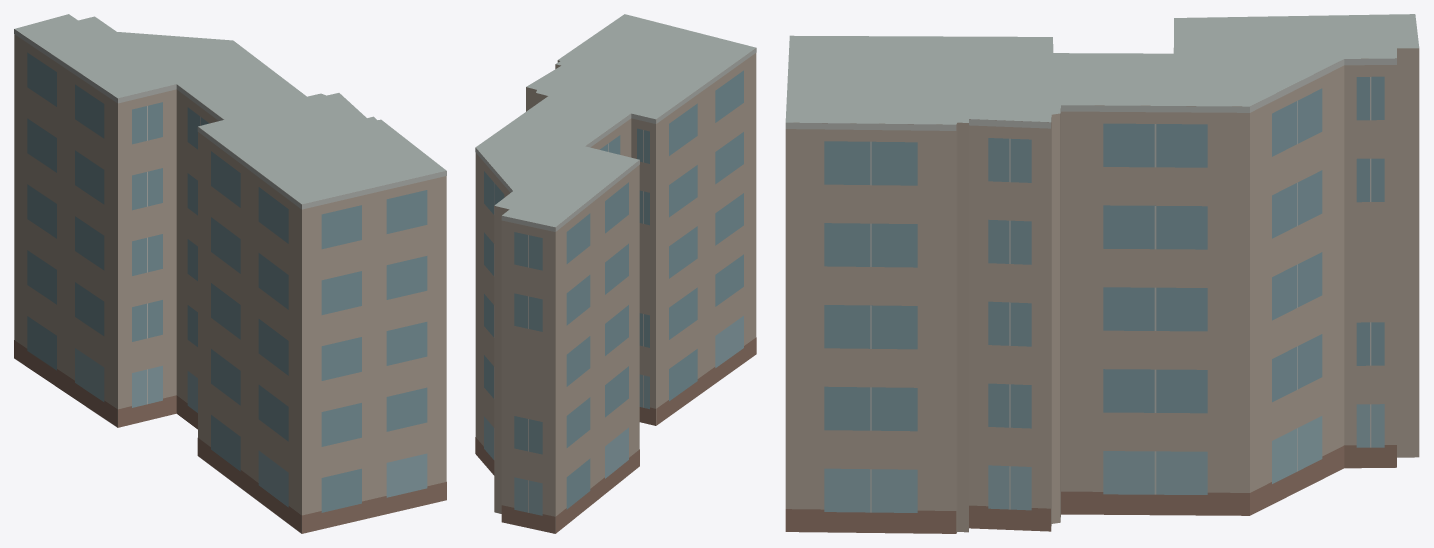
Rendered from survey-upis-32499410.glb.
3 views of the same model, side by side, from view 1: azimuth 30°, elevation 25°; view 2: azimuth 150°, elevation 25°; view 3: azimuth 270°, elevation 25° (orthographic). The views are drawn at different scales.
Visible parts, largest first — view 1: survey-upis-32499410.tmp; view 2: survey-upis-32499410.tmp; view 3: survey-upis-32499410.tmp.
Boxes of the visible parts, box(x1,y1,x2,y2) form: survey-upis-32499410.tmp: box(14, 14, 446, 533); survey-upis-32499410.tmp: box(475, 14, 756, 533); survey-upis-32499410.tmp: box(785, 14, 1419, 533).
Bounding box in the file's own units: 9.05 × 15.6 × 21.9.
